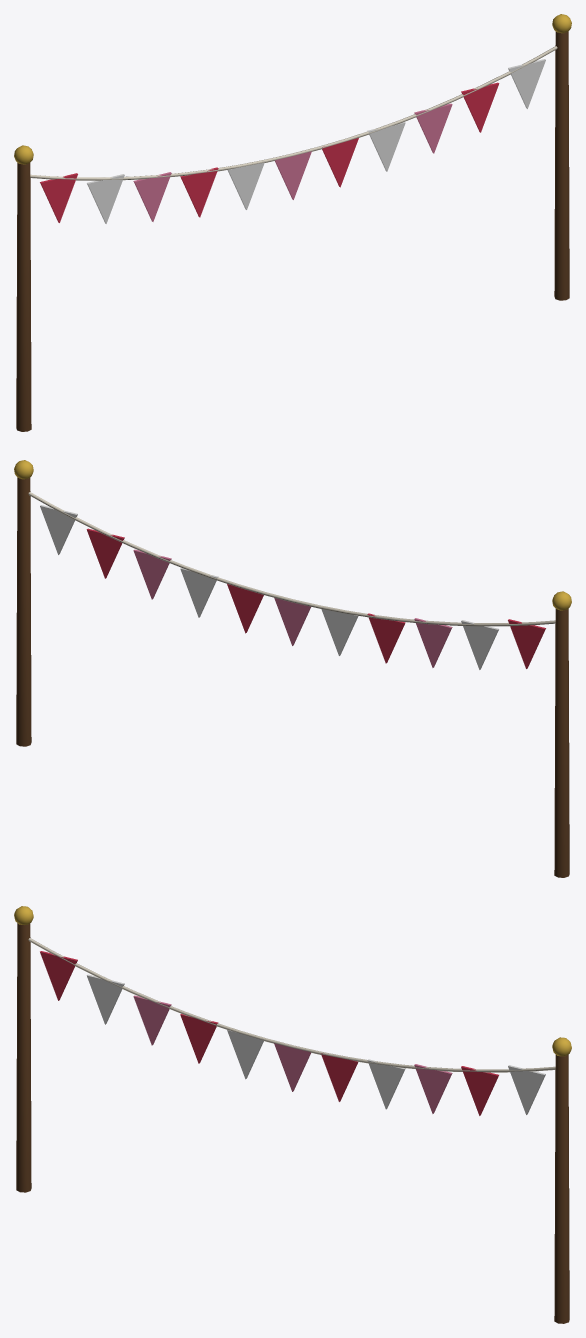
File: bunting_hearts.glb
3 views of the same model, one above another, from view 1: azimuth 30°, elevation 25°; view 2: azimuth 150°, elevation 25°; view 3: azimuth 330°, elevation 25° (orthographic).
Visible parts, largest first — view 1: bunting_hearts_main; view 2: bunting_hearts_main; view 3: bunting_hearts_main.
Part boxes in pixels (x1,y1,x2,y2): bunting_hearts_main: [14, 14, 571, 431]; bunting_hearts_main: [14, 460, 571, 877]; bunting_hearts_main: [14, 906, 571, 1323].
Size of the model in its own units: 2.85 by 1.38 by 0.09.
